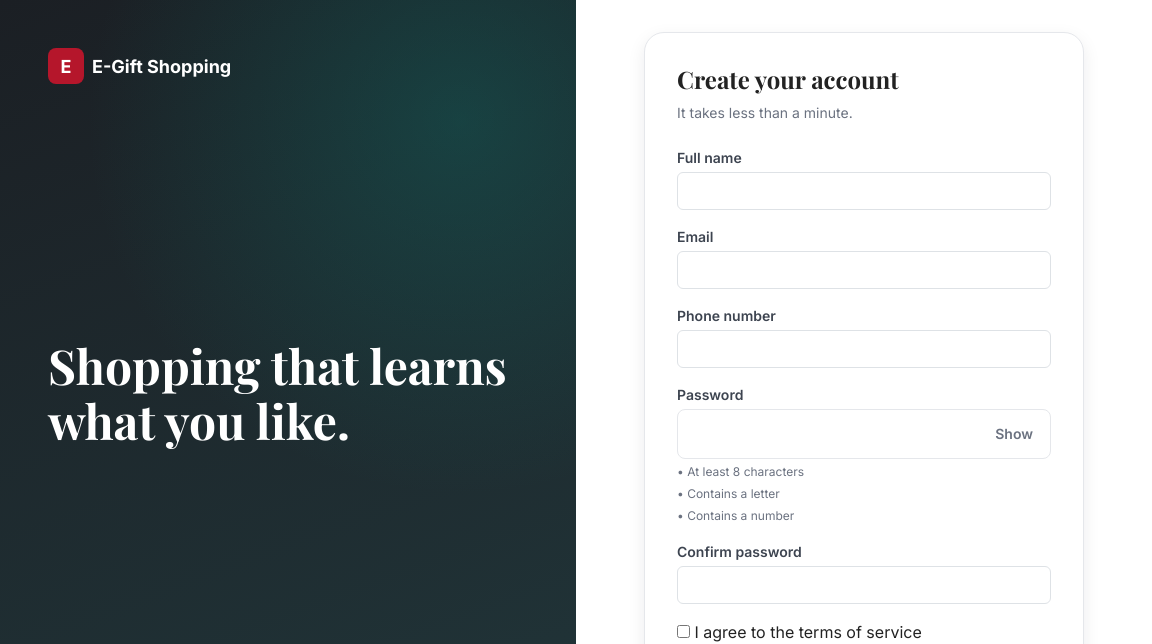
Scenario: LoginAuthComponent › shows a mismatch message when the passwords differ
Type "Secret123" into the password field with id "signup-password" at (864, 434), box [677,409,1051,459]
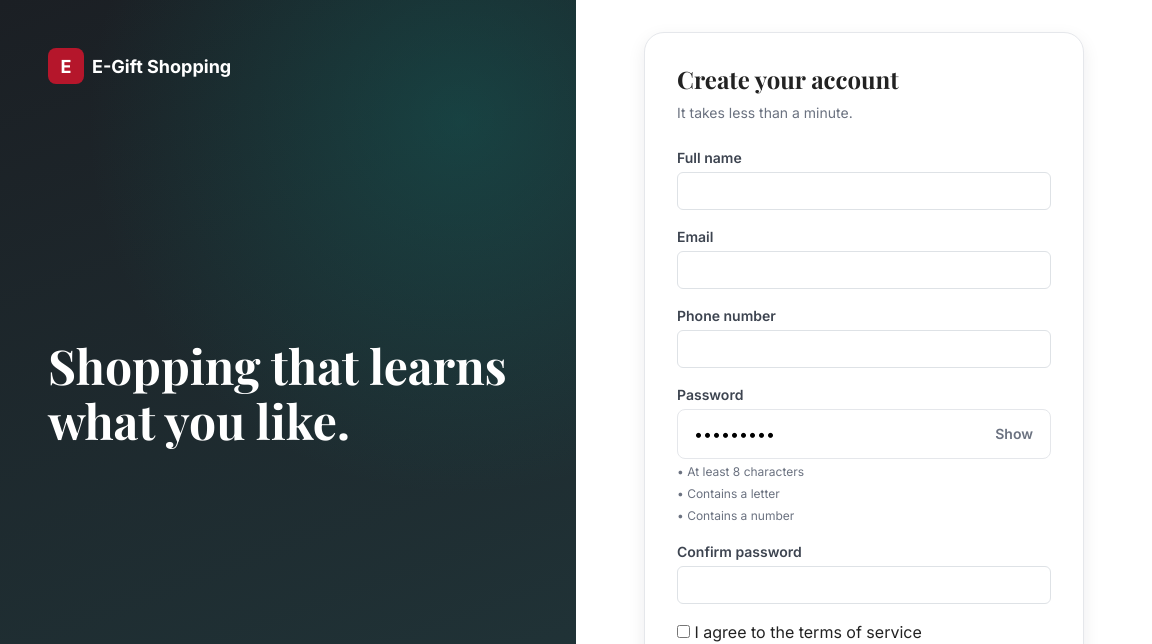
Type "Secret124" into the password field with id "signup-confirm" at (864, 585), box [677,566,1051,604]
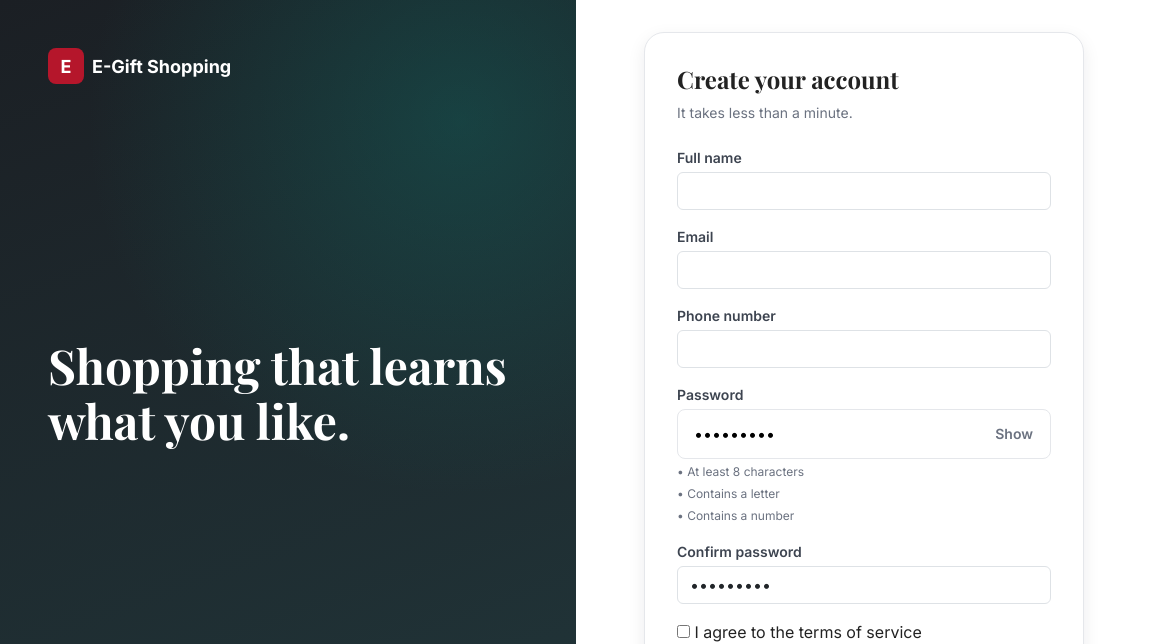
Leave the password field with id "signup-confirm", box [677,566,1051,604]
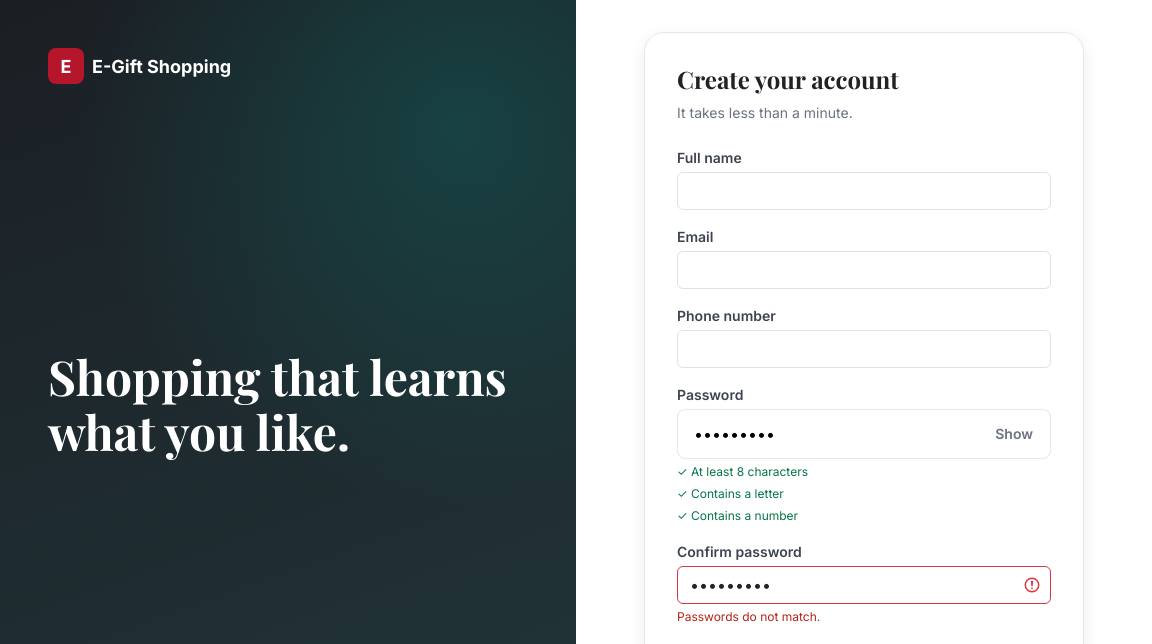
Check: the text "Passwords do not match" is shown, box [677,609,820,624]
